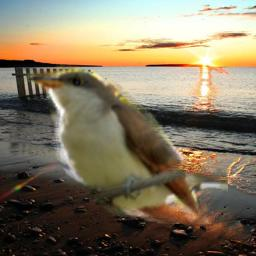Cuckoo: (21, 54, 228, 224)
